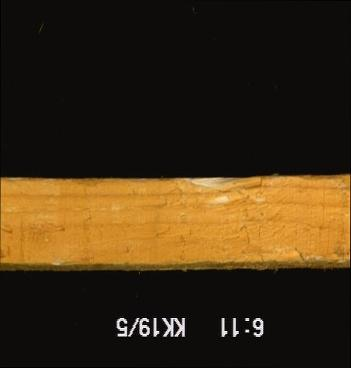wave: (178, 175, 270, 209)
